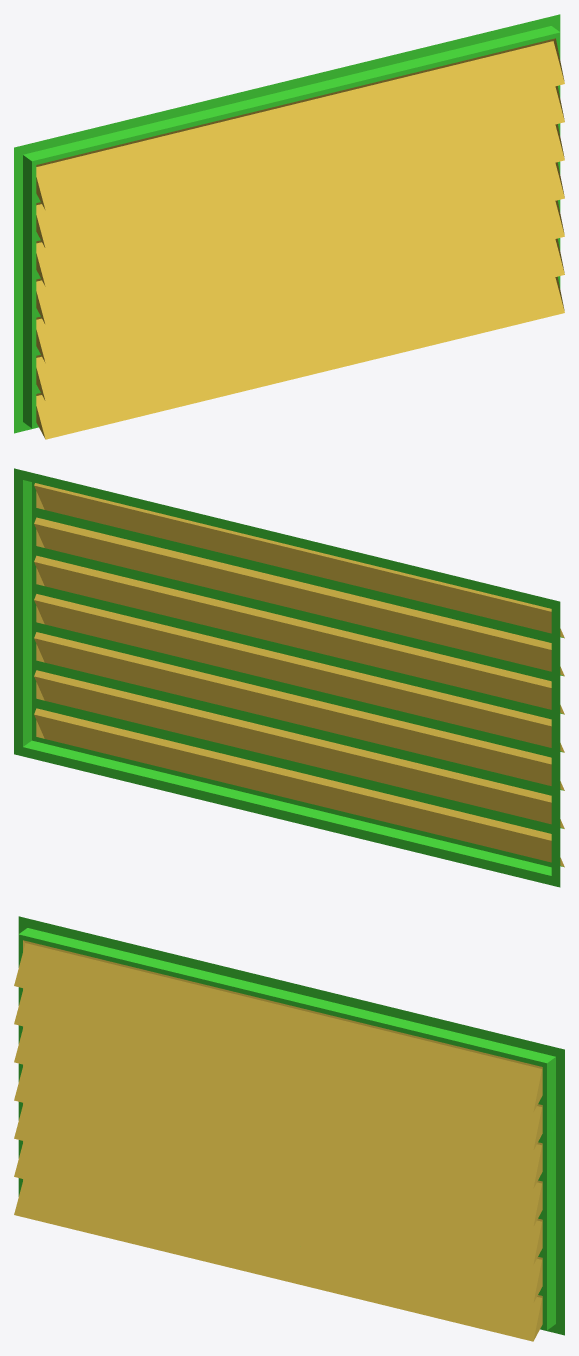
File: Wall_40.fbx
The picture shows the model from 3 angles, top to bottom: view 1: azimuth 30°, elevation 25°; view 2: azimuth 150°, elevation 25°; view 3: azimuth 330°, elevation 25°; orthographic projection.
Parts seen in each view (by area): view 1: Wall_40; view 2: Wall_40; view 3: Wall_40.
Boxes of the visible parts, bbox=[...] form: Wall_40: bbox=[14, 14, 564, 439]; Wall_40: bbox=[14, 468, 564, 887]; Wall_40: bbox=[14, 916, 564, 1341].
Size of the model in its own units: 457 by 229 by 26.14.
